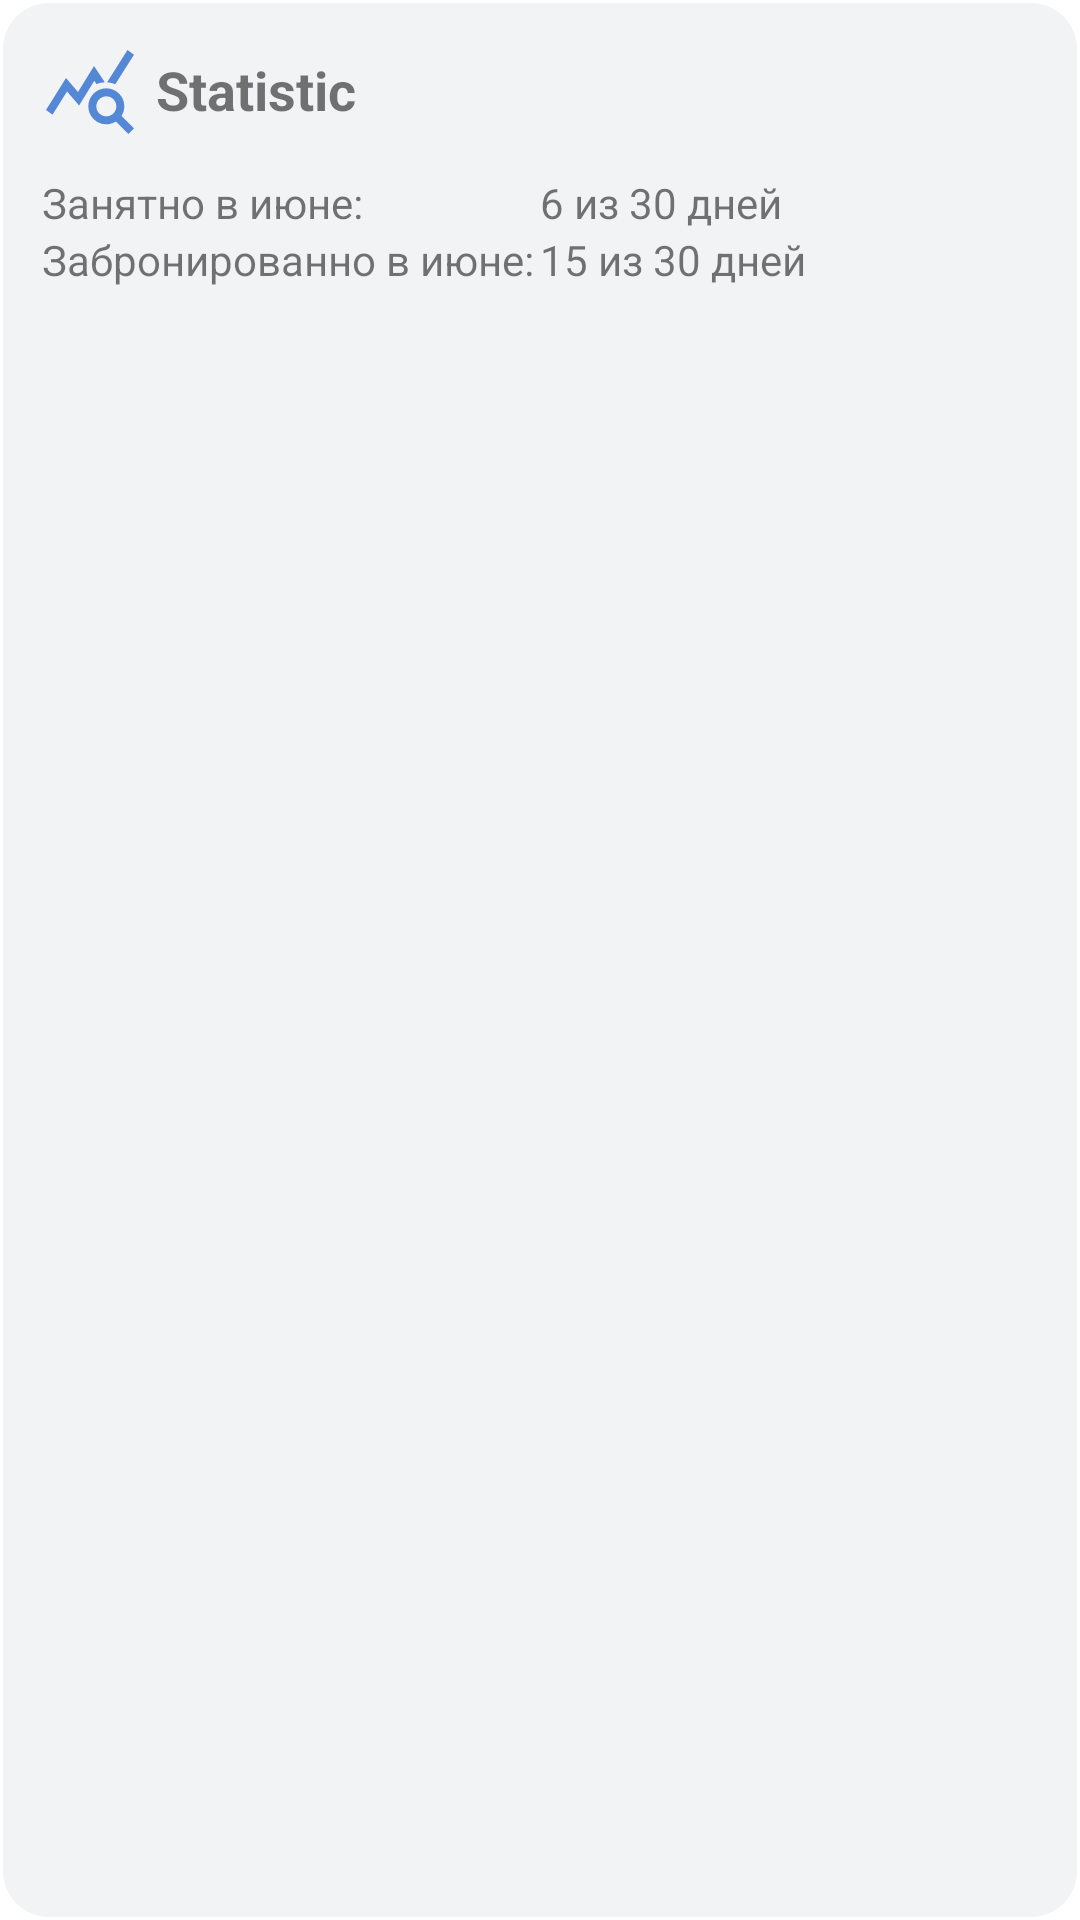

Screen size 1080*1920. Icon name, then its box in pixels as (x1, y1, x2, y2):
query stats: (46, 50, 134, 134)
